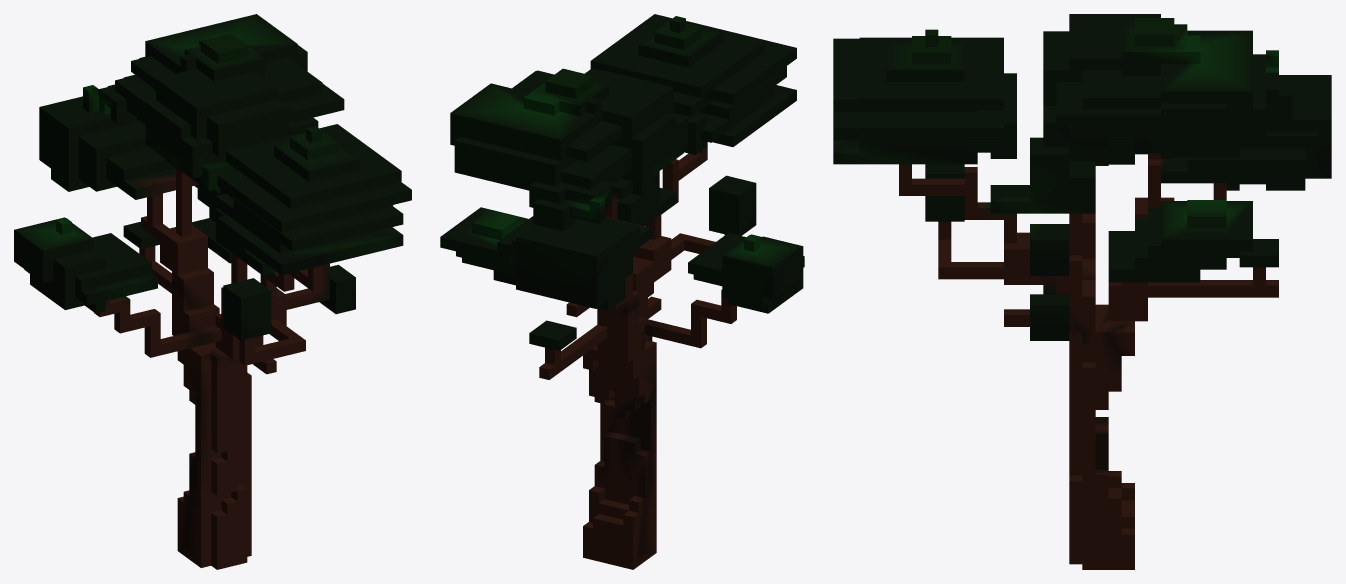
File: Tree_30.fbx
3 renders of one model, left to right at view 1: azimuth 30°, elevation 25°; view 2: azimuth 150°, elevation 25°; view 3: azimuth 270°, elevation 25°, orthographic. The views are drawn at different scales.
Visible parts, largest first — view 1: Tree_30; view 2: Tree_30; view 3: Tree_30.
Boxes of the visible parts, bbox=[...] form: Tree_30: bbox=[14, 14, 411, 569]; Tree_30: bbox=[440, 14, 804, 569]; Tree_30: bbox=[833, 14, 1331, 569].
Bounding box in the file's own units: 439 × 696 × 575.
